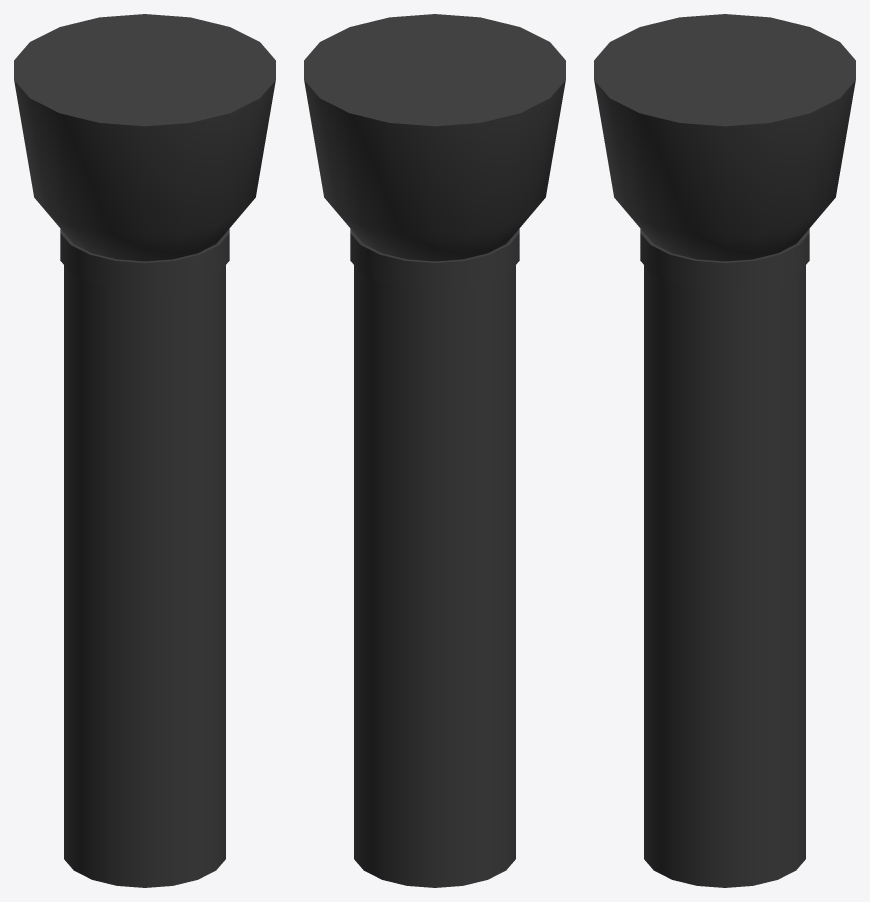
File: Lampe.fbx
3 views of the same model, side by side, from view 1: azimuth 30°, elevation 25°; view 2: azimuth 150°, elevation 25°; view 3: azimuth 270°, elevation 25° (orthographic).
Visible parts, largest first — view 1: Cylinder001; view 2: Cylinder001; view 3: Cylinder001.
Boxes of the visible parts, x1,y1,x2,y2 form: Cylinder001: [14, 14, 275, 887]; Cylinder001: [304, 14, 565, 887]; Cylinder001: [594, 14, 855, 887].
Bounding box in the file's own units: 3.6 × 11.7 × 3.55.
